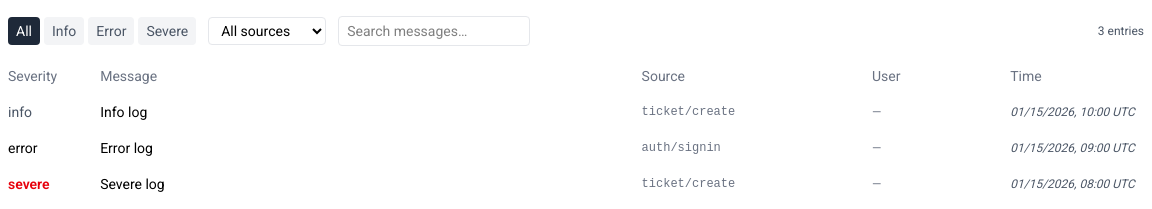
Test case: LogViewer › filters by source
Select "auth/signin" in the dropdown at (267,31), box top-left (208, 17), bottom-right (326, 45)
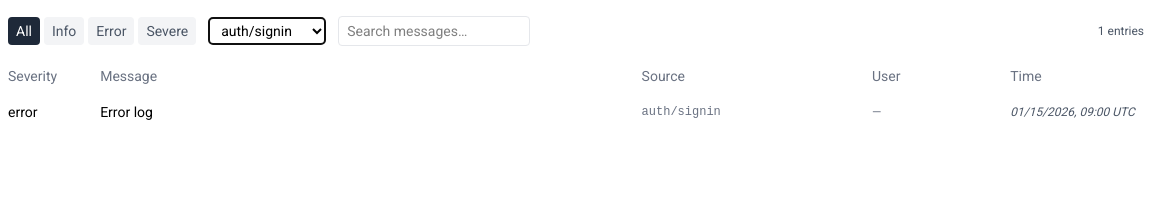
expect the text "Error log" is shown: met, box top-left (100, 104), bottom-right (153, 120)
expect the text "Info log" is gone: met
expect the text "Severe log" is gone: met
